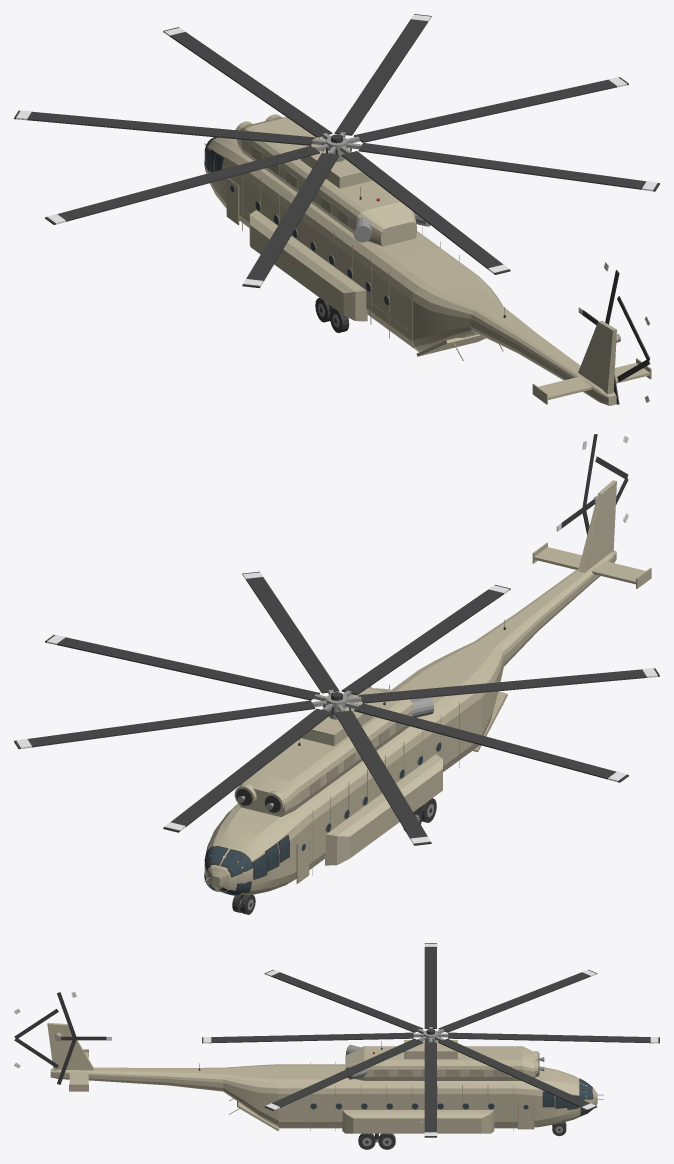
Rendered from rus_heli_mi26.glb.
The picture shows the model from 3 angles, top to bottom: view 1: azimuth 30°, elevation 25°; view 2: azimuth 150°, elevation 25°; view 3: azimuth 270°, elevation 25°; orthographic projection. The views are drawn at different scales.
Parts seen in each view (by area): view 1: body, rotor, trotor; view 2: body, rotor, trotor; view 3: body, rotor, trotor.
Part boxes in pixels (x1,y1,x2,y2): body: (204, 114, 651, 405); rotor: (14, 14, 659, 288); trotor: (578, 261, 650, 404); body: (204, 480, 651, 914); rotor: (14, 571, 659, 845); trotor: (556, 434, 628, 534); body: (47, 1022, 603, 1149); rotor: (202, 943, 659, 1137); trotor: (14, 992, 111, 1084).
Size of the model in its own units: 28.9 by 10.15 by 40.75.
